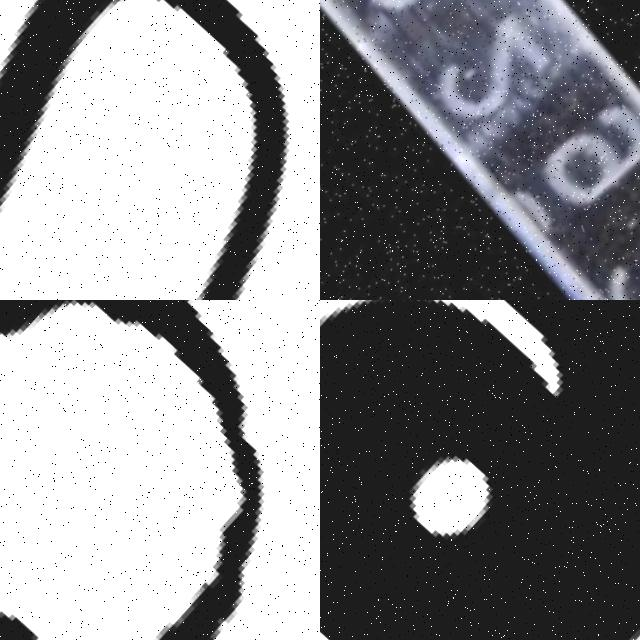0: (323, 0, 499, 59)
2: (406, 0, 576, 159), (572, 195, 640, 300)
9: (320, 300, 640, 640), (510, 71, 640, 245)
O: (0, 300, 320, 640)
U: (0, 0, 320, 300)
